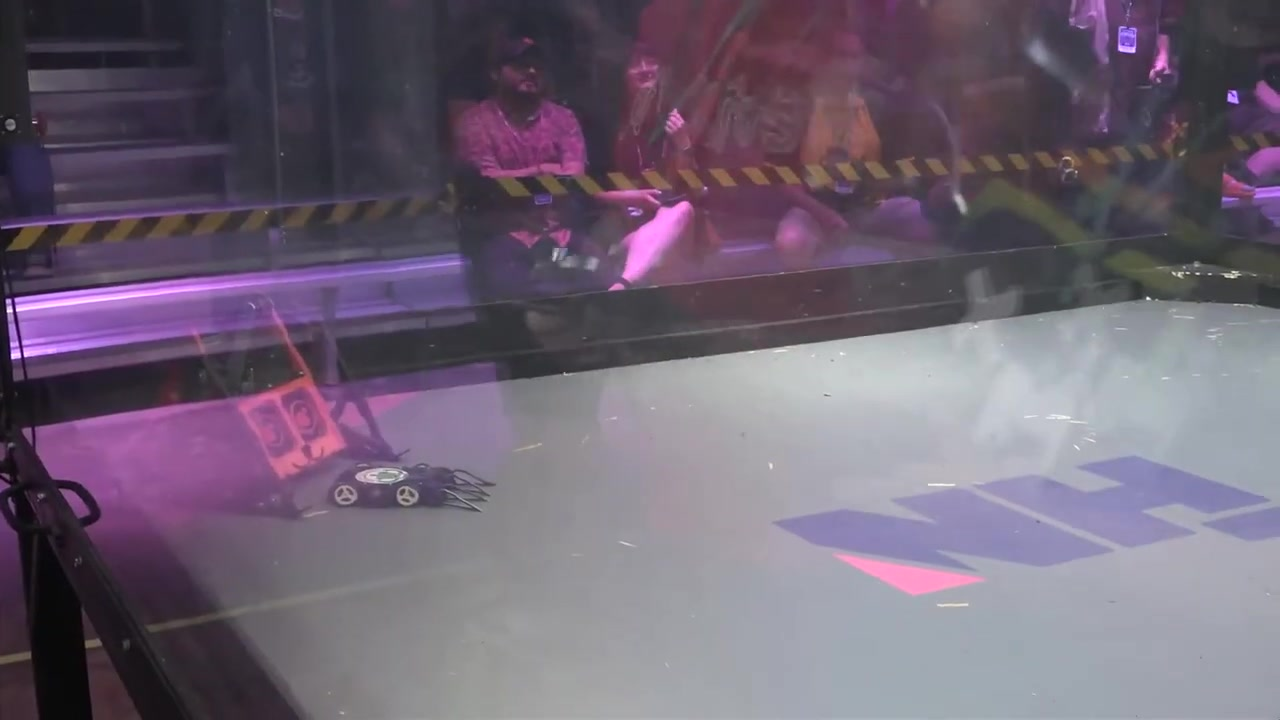combatbot: (145, 294, 410, 519), (331, 460, 496, 512)
